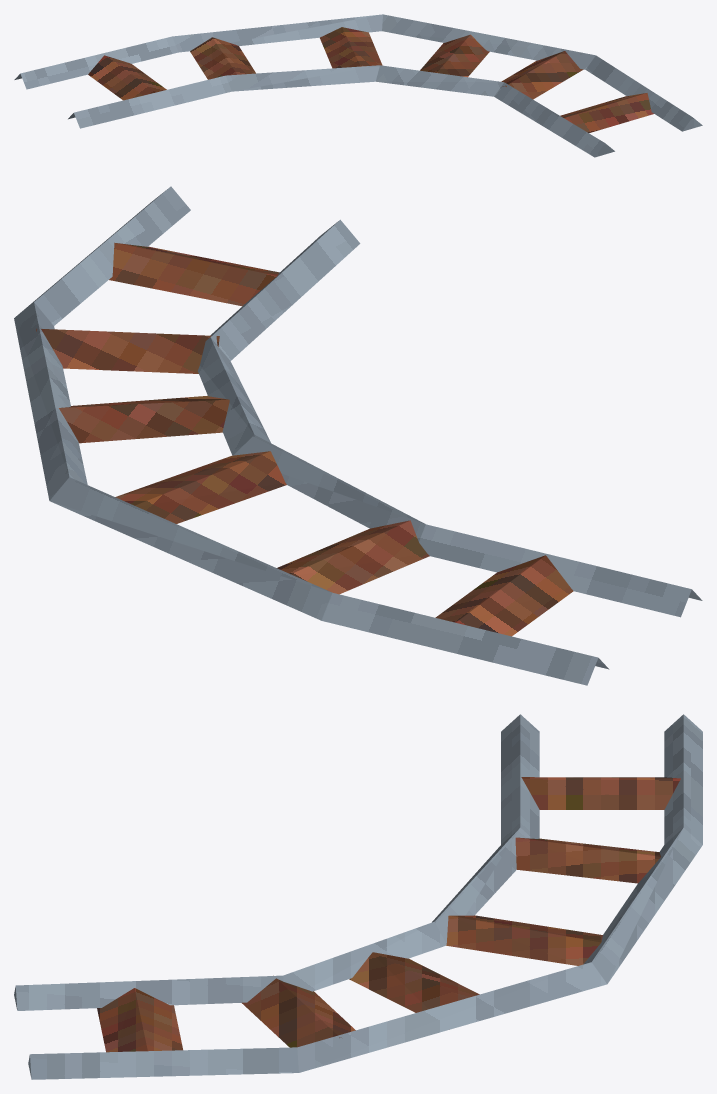
File: railcurve.obj
3 views of the same model, one above another, from view 1: azimuth 30°, elevation 25°; view 2: azimuth 150°, elevation 25°; view 3: azimuth 270°, elevation 25° (orthographic). The views are drawn at different scales.
Parts seen in each view (by area): view 1: Geoset_001_Geoset_001_None_Geoset_001_Geoset_001_None_None, Geoset_000_Geoset_000_None_16.png_Geoset_000_Geoset_000_None_16; view 2: Geoset_001_Geoset_001_None_Geoset_001_Geoset_001_None_None, Geoset_000_Geoset_000_None_16.png_Geoset_000_Geoset_000_None_16; view 3: Geoset_001_Geoset_001_None_Geoset_001_Geoset_001_None_None, Geoset_000_Geoset_000_None_16.png_Geoset_000_Geoset_000_None_16.
Boxes of the visible parts, box(x1,y1,x2,y2) form: Geoset_001_Geoset_001_None_Geoset_001_Geoset_001_None_None: box(14, 14, 702, 157); Geoset_000_Geoset_000_None_16.png_Geoset_000_Geoset_000_None_16: box(88, 27, 653, 132); Geoset_001_Geoset_001_None_Geoset_001_Geoset_001_None_None: box(14, 186, 702, 685); Geoset_000_Geoset_000_None_16.png_Geoset_000_Geoset_000_None_16: box(36, 242, 573, 636); Geoset_001_Geoset_001_None_Geoset_001_Geoset_001_None_None: box(14, 714, 702, 1079); Geoset_000_Geoset_000_None_16.png_Geoset_000_Geoset_000_None_16: box(97, 777, 680, 1052).
Size of the model in its own units: 6.15 by 0.1574 by 5.12.
